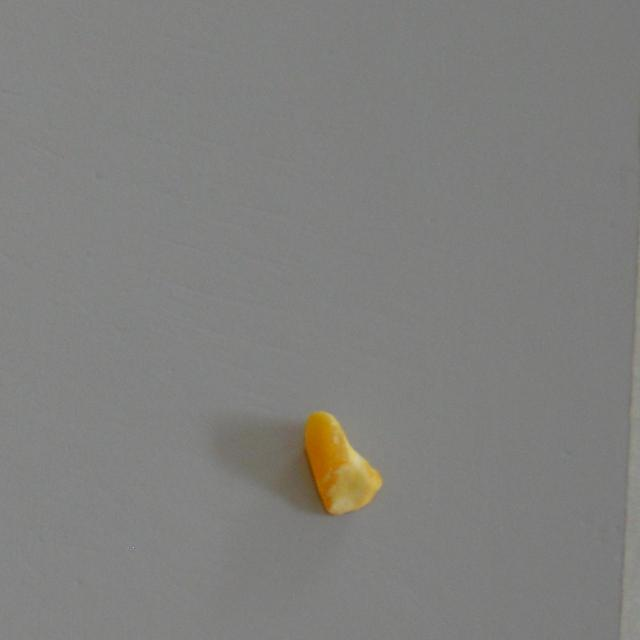pelicula: (302, 410, 383, 514)
